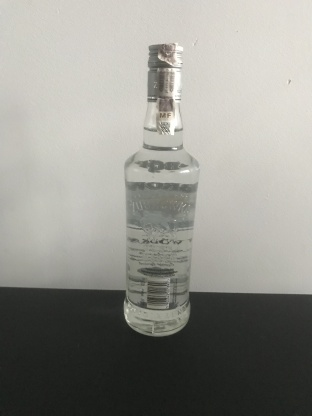nakretka: (145, 40, 184, 103)
